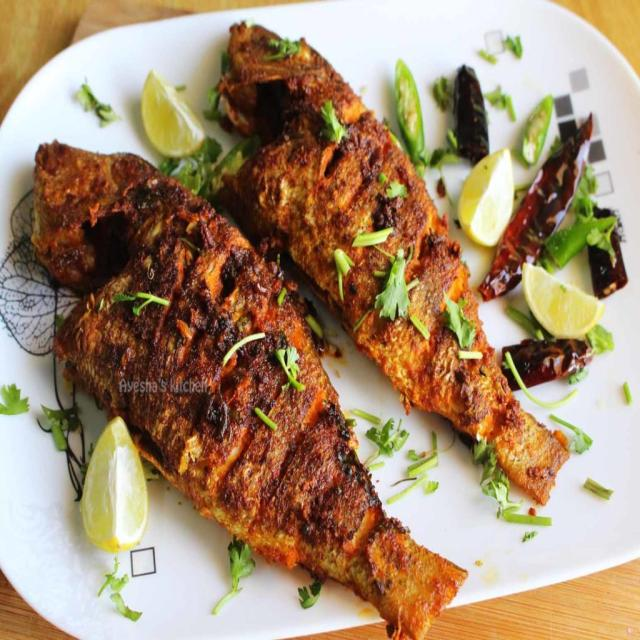Peixe: (29, 137, 469, 638), (211, 18, 571, 508)
